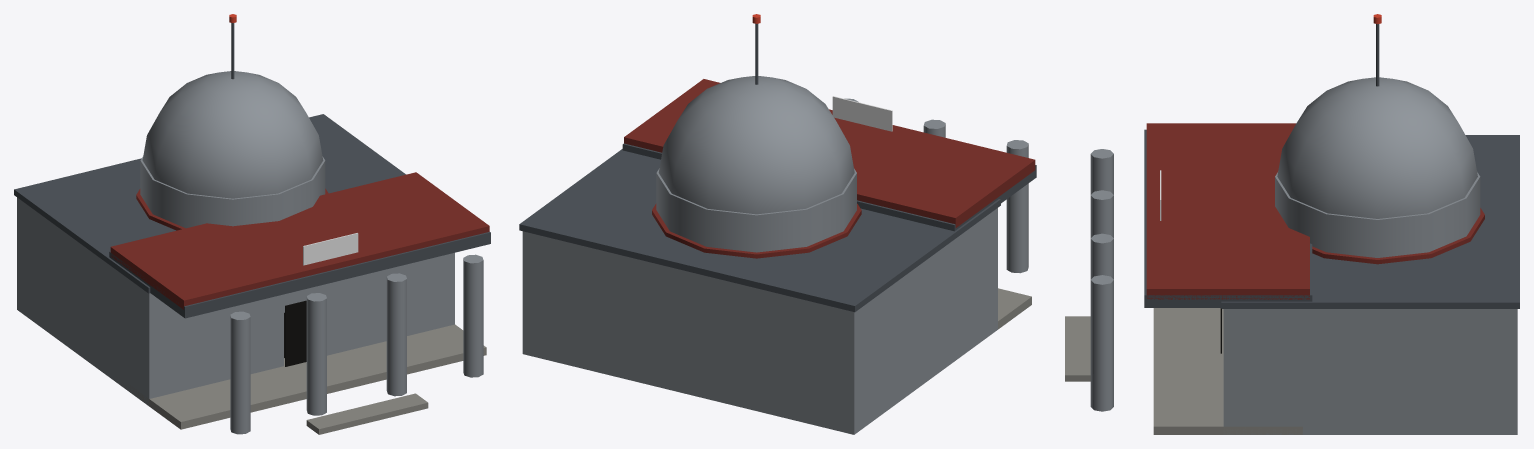
3 views of the same model, side by side, from view 1: azimuth 30°, elevation 25°; view 2: azimuth 150°, elevation 25°; view 3: azimuth 270°, elevation 25° (orthographic). The views are drawn at different scales.
Visible parts, largest first — view 1: garde_building_archive; view 2: garde_building_archive; view 3: garde_building_archive.
Boxes of the visible parts, box(x1,y1,x2,y2) form: garde_building_archive: box(14, 14, 490, 434); garde_building_archive: box(519, 14, 1036, 434); garde_building_archive: box(1065, 14, 1519, 434).
Bounding box in the file's own units: 17 × 15.9 × 19.5.
